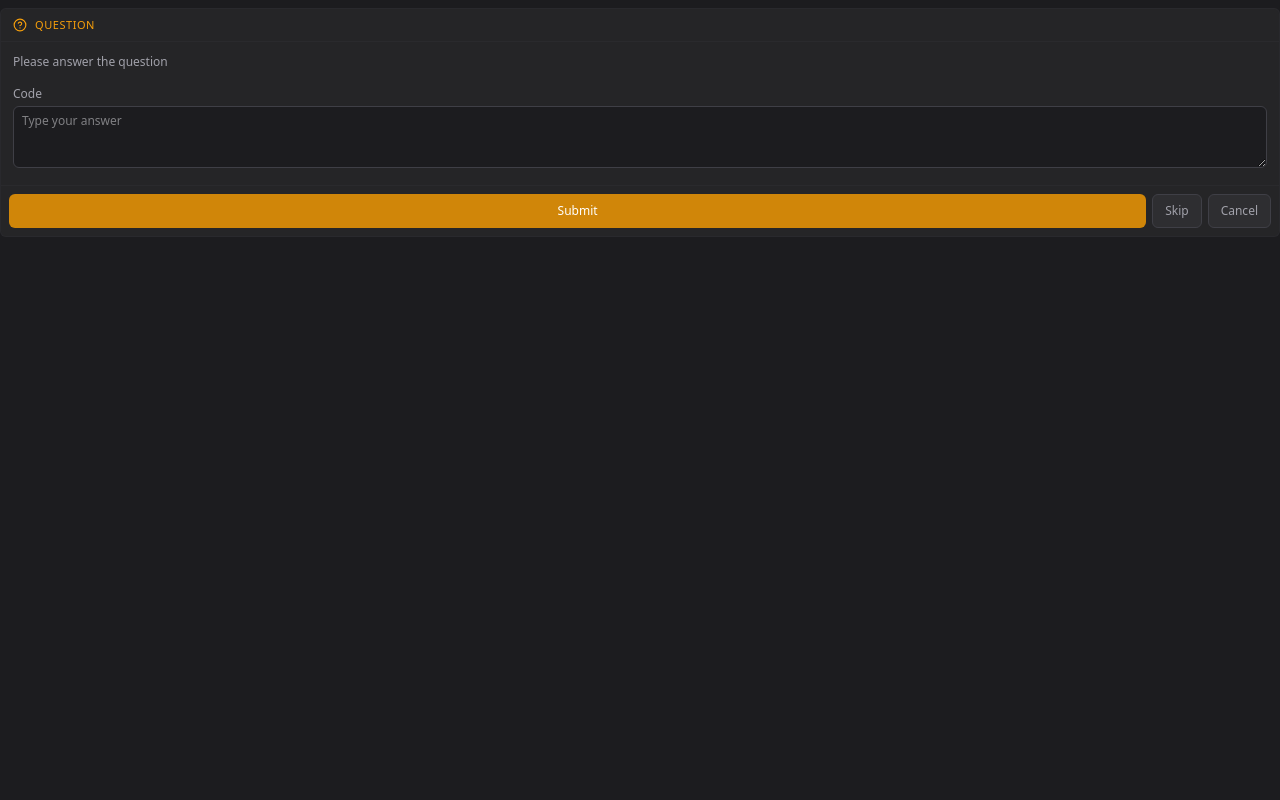
Test: AskUserQuestionCard submission › max length
Type "toolong" into the text box with placeholder "Type your answer".
click(640, 137); type("toolong")  # box 13,106 -> 1267,168
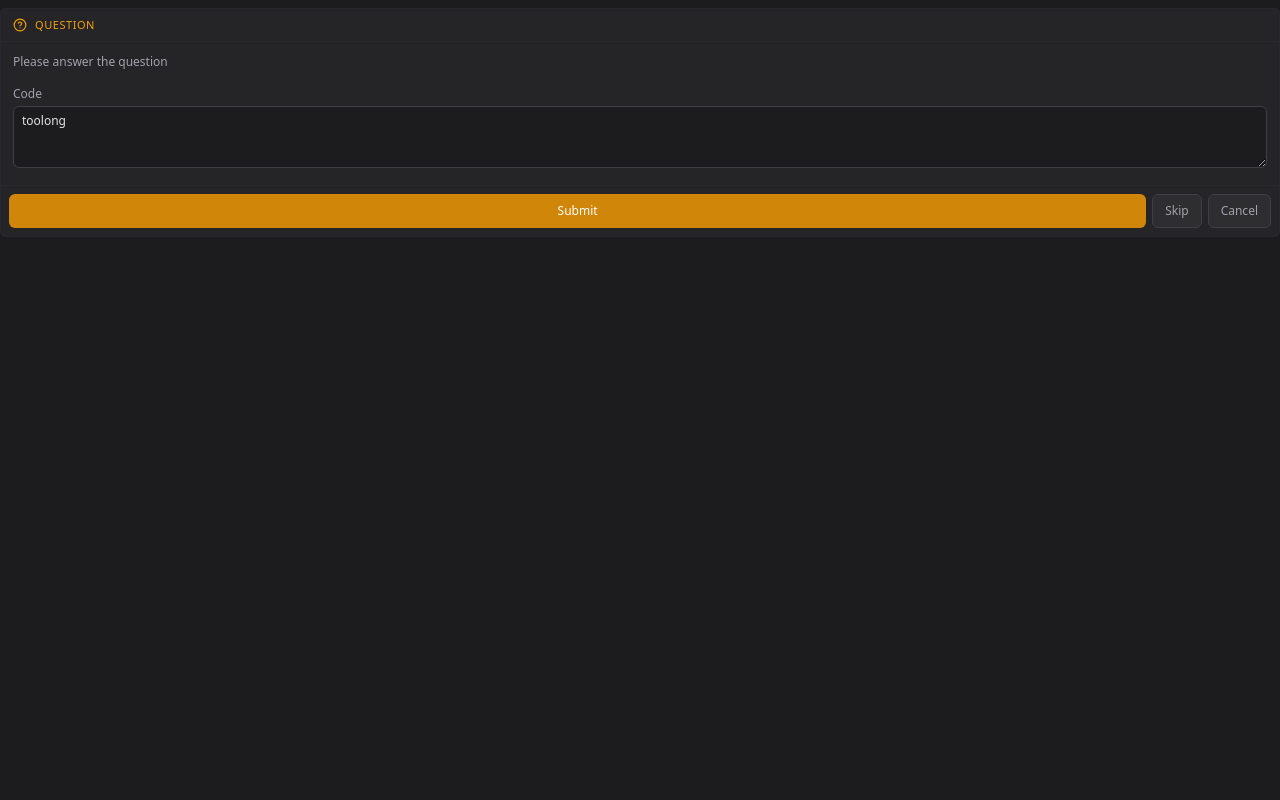
Click the button "Submit".
click(578, 211)  # box 9,194 -> 1146,228
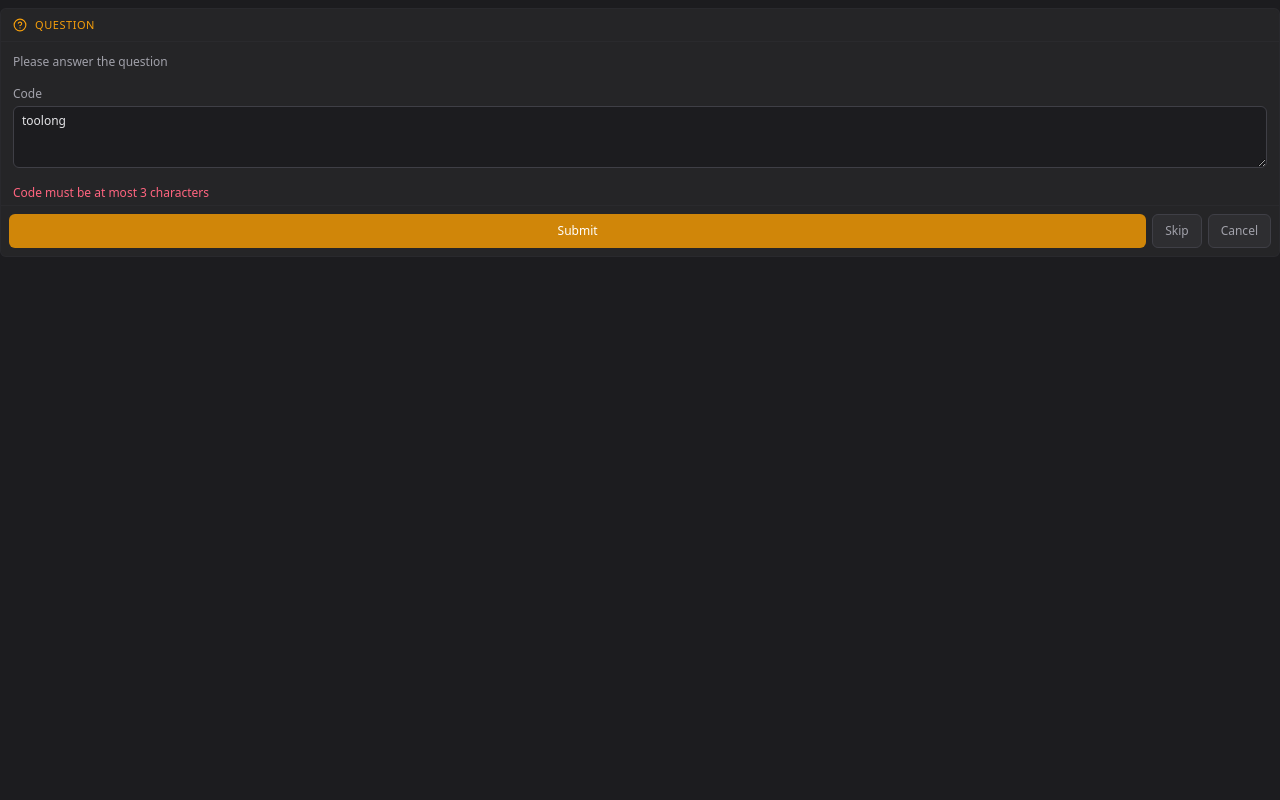
expect the text "Code must be at most 3 characters" is shown: met, box 13,184 -> 209,201
